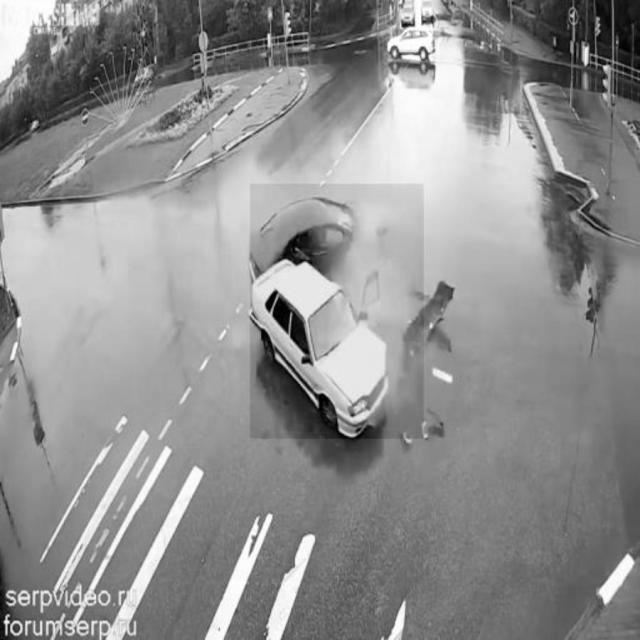accident: (250, 184, 424, 438)
vehicle: (388, 26, 433, 63), (402, 4, 417, 28), (417, 4, 434, 24)
